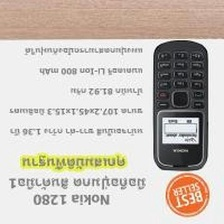phone: (149, 36, 212, 174)
